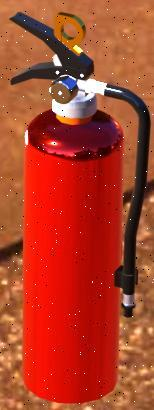Fire Extinguisher: (8, 3, 154, 409)
